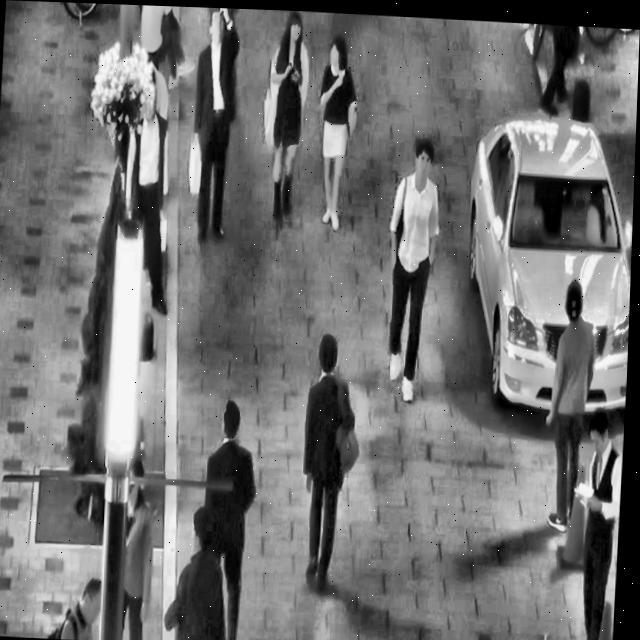light_vehicle: (454, 90, 638, 421)
